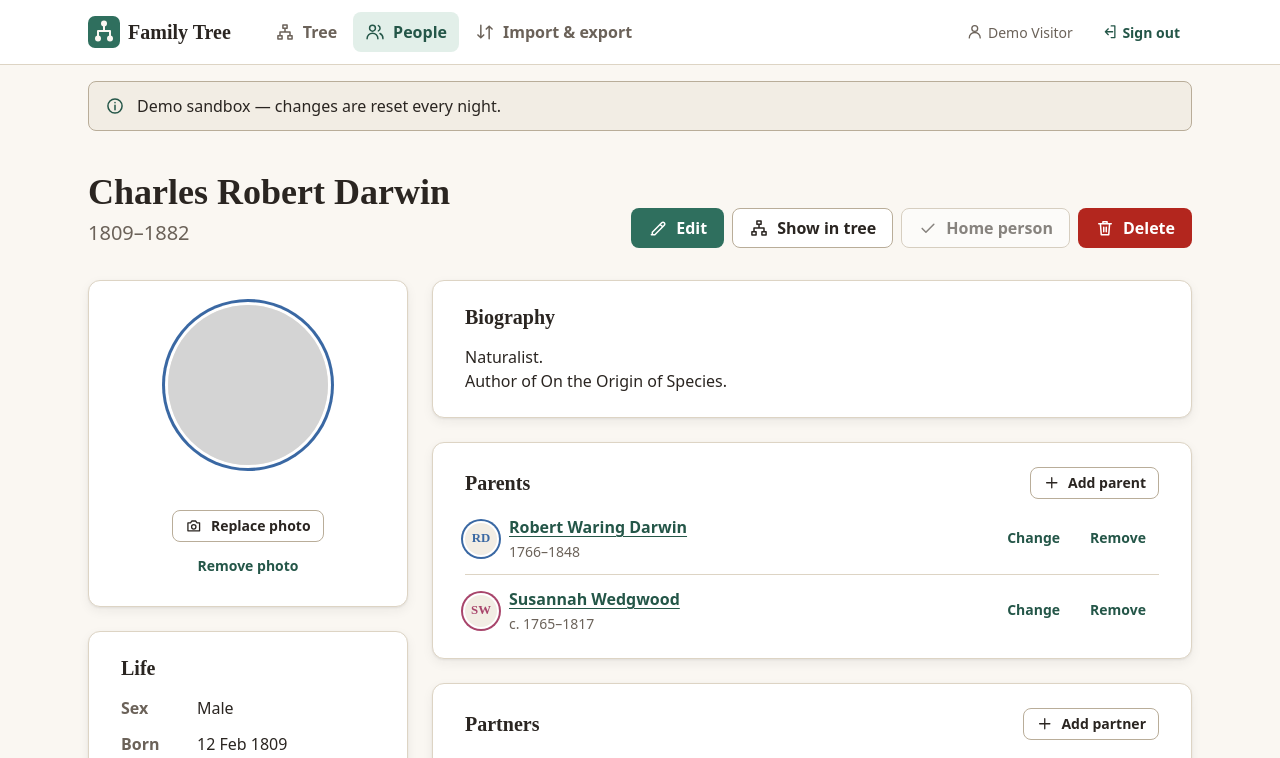
Scenario: a kinship rule violation from the server is shown inside the dialog
The width and height of the screenshot is (1280, 758).
What coordinates should you click on to do the following:
click the button "Add parent"
I would click on:
 (1094, 483)
Its box is 1030,467 -> 1159,499.
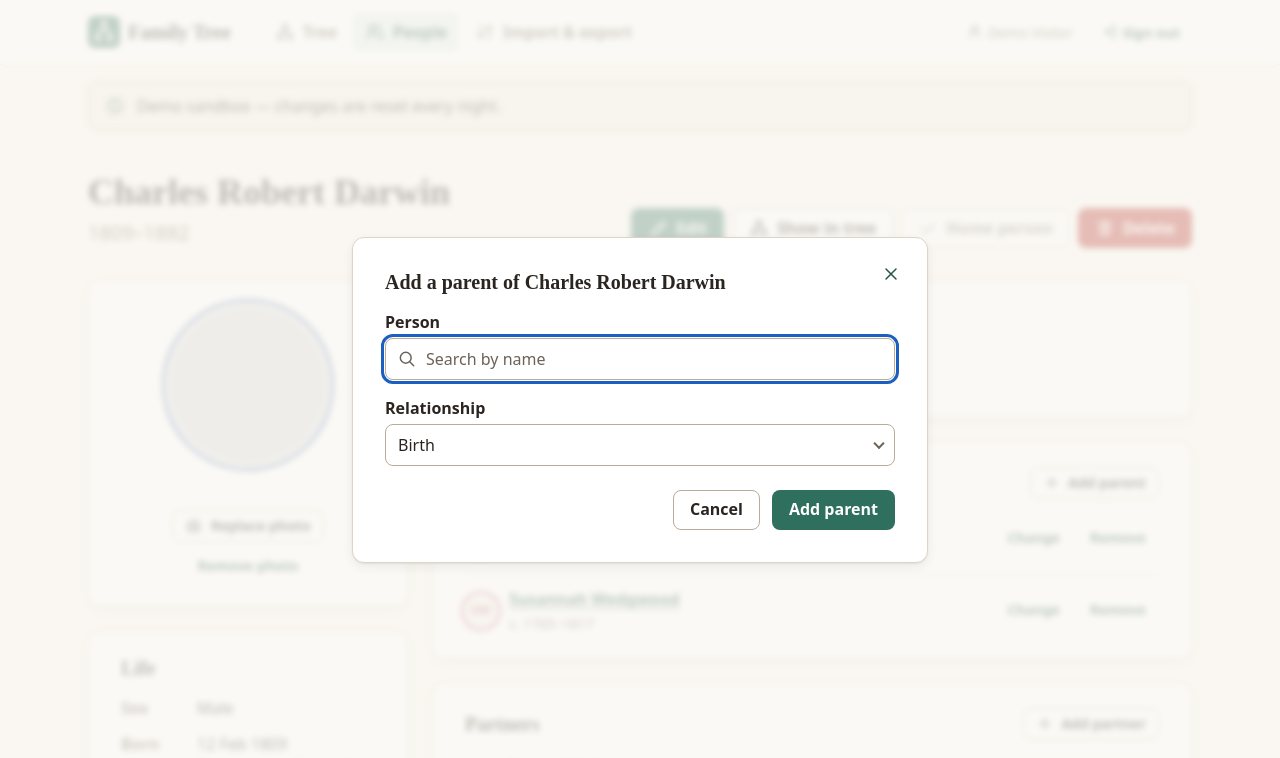
What coordinates should you click on to do the following:
click the dropdown labelled "Person"
I would click on:
 (640, 359)
Its box is 385,338 -> 895,380.
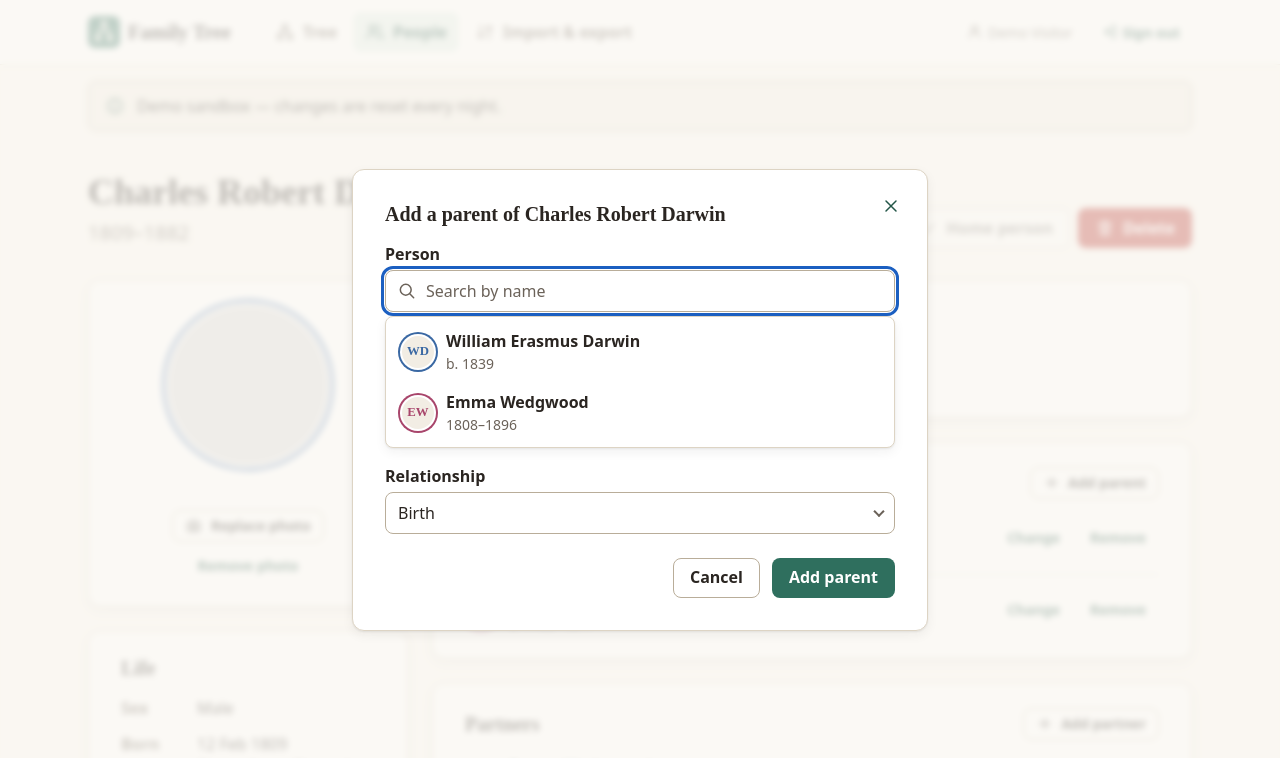
What coordinates should you click on to do the following:
click the option "EW Emma Wedgwood 1808–1896"
I would click on:
 (495, 412)
Its box is 402,391 -> 589,434.
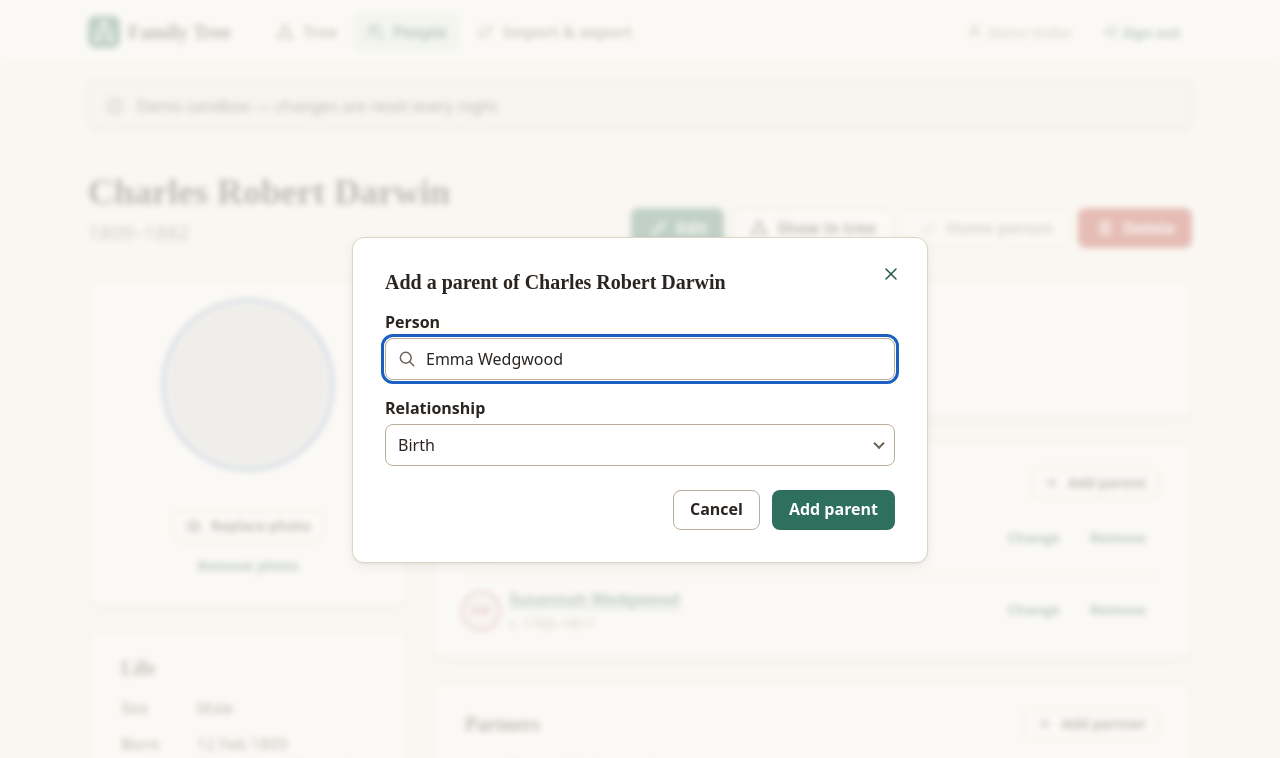
What coordinates should you click on to do the following:
click the button "Add parent"
I would click on:
 (833, 510)
Its box is 772,490 -> 895,530.
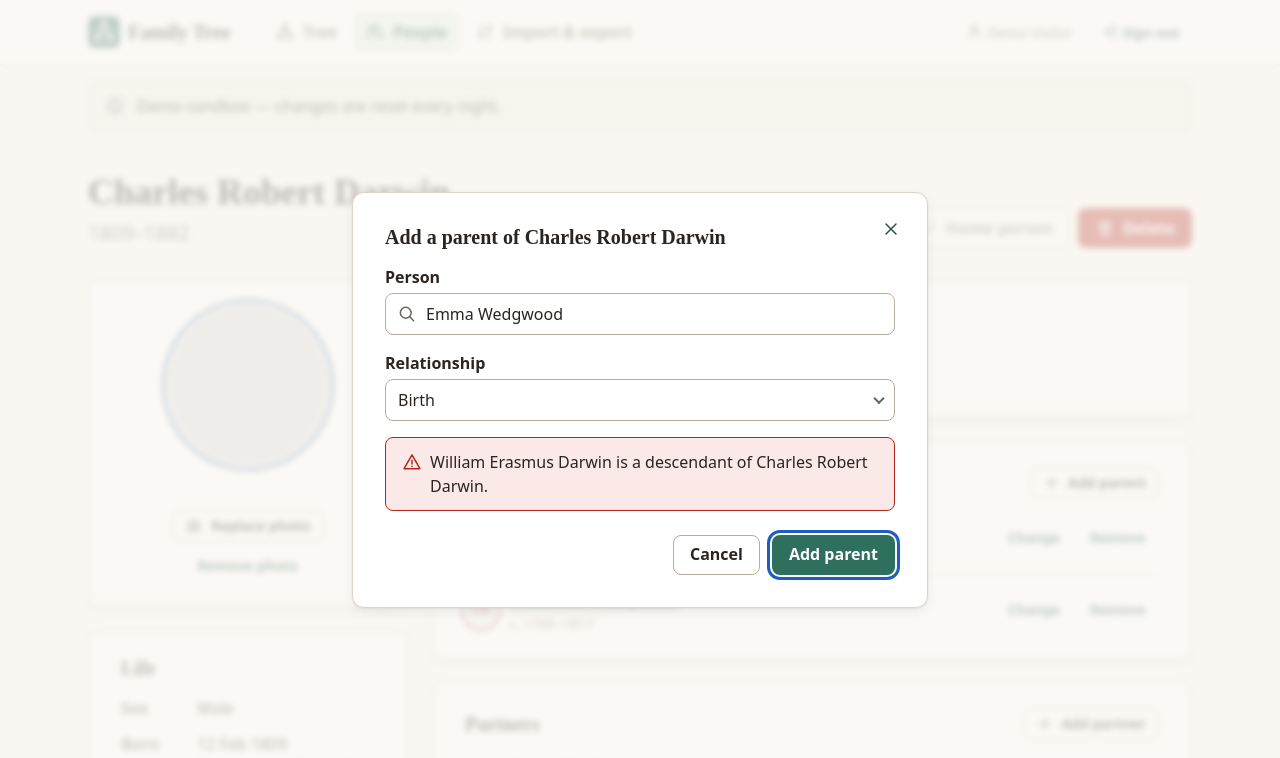
Expected: the dialog is shown, 352,192 -> 928,608
Expected: the message reads "William Erasmus Darwin is a descendant of Charles Robert Darwin.", 430,451 -> 868,497
